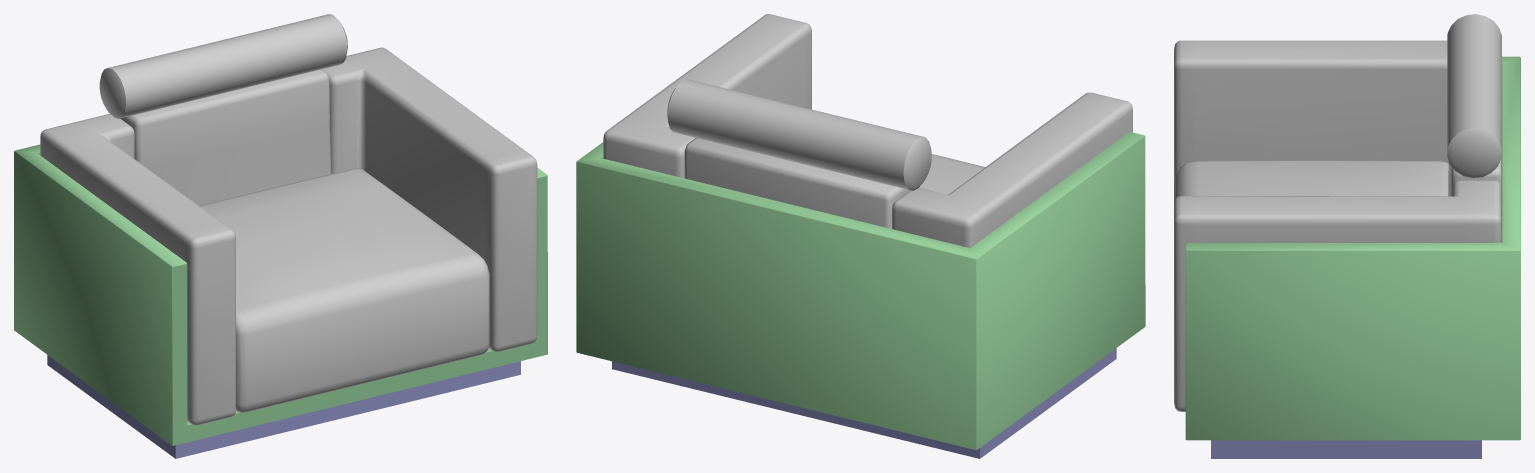
The model's file is MZCSF07.FBX.
3 views of the same model, side by side, from view 1: azimuth 30°, elevation 25°; view 2: azimuth 150°, elevation 25°; view 3: azimuth 270°, elevation 25° (orthographic). The views are drawn at different scales.
Visible parts, largest first — view 1: MZCSF07; view 2: MZCSF07; view 3: MZCSF07.
Boxes of the visible parts, box(x1,y1,x2,y2) form: MZCSF07: box(14, 14, 547, 458); MZCSF07: box(576, 14, 1145, 458); MZCSF07: box(1174, 14, 1520, 458).
Bounding box in the file's own units: 107 × 80.94 × 77.
